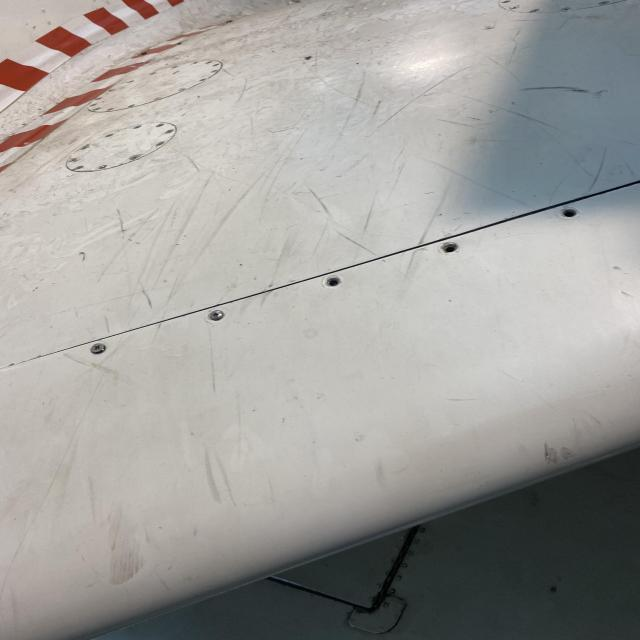Fastener Damage: (555, 204, 579, 222), (436, 240, 462, 256), (323, 273, 344, 290)
